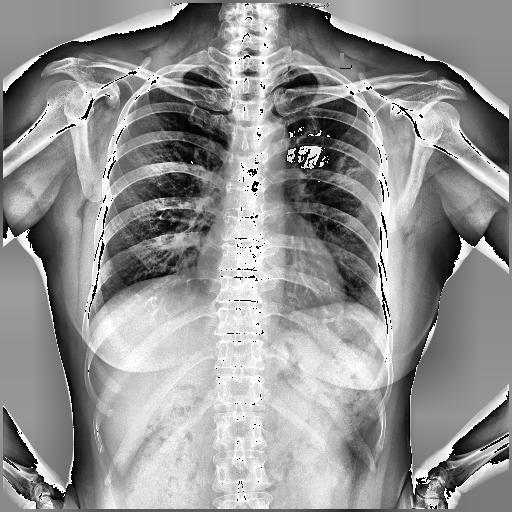13- Pulmonary fibrosis: (319, 150, 365, 188), (327, 148, 365, 186), (326, 156, 366, 190)
